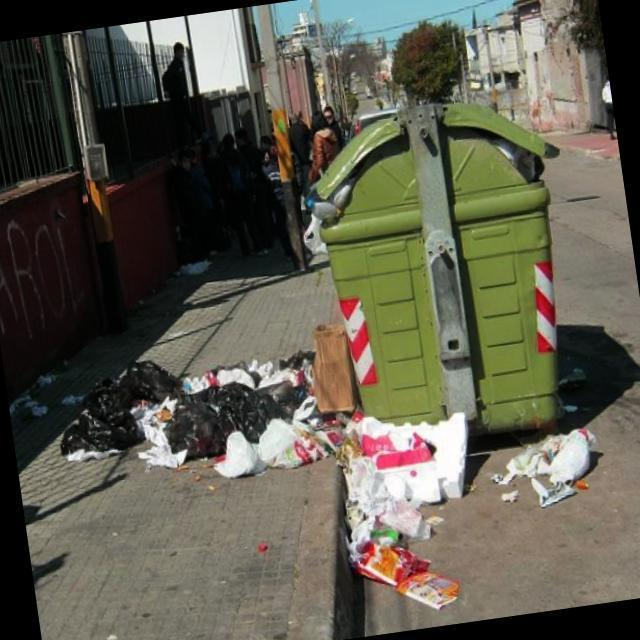garbage: (44, 328, 342, 502), (326, 394, 493, 623), (480, 416, 615, 528), (487, 114, 558, 215), (298, 178, 364, 271)
